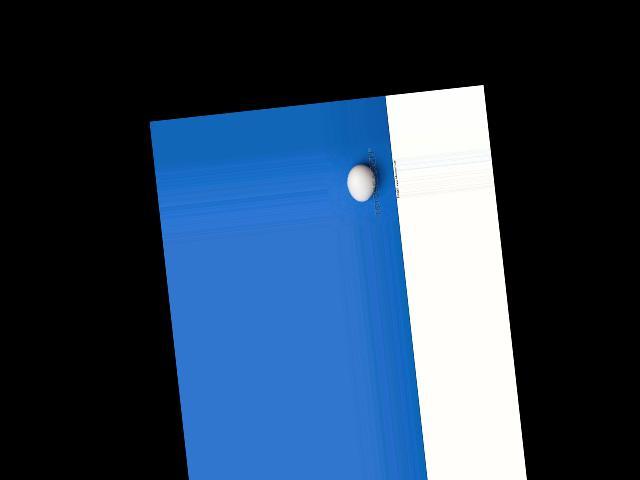egg: (345, 162, 378, 202)
